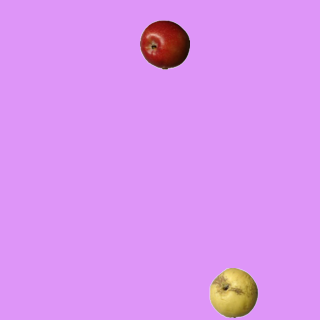Apple Braeburn: (139, 19, 189, 69)
Apple Golden 1: (208, 267, 258, 317)
